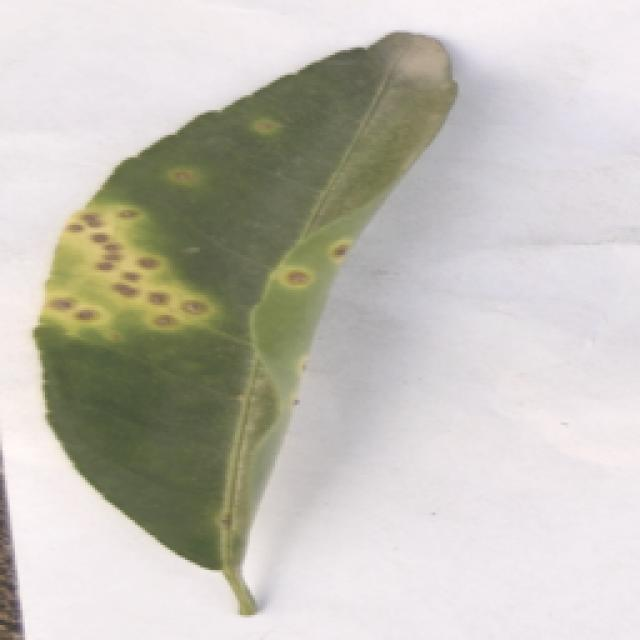canker: (9, 96, 411, 486)
